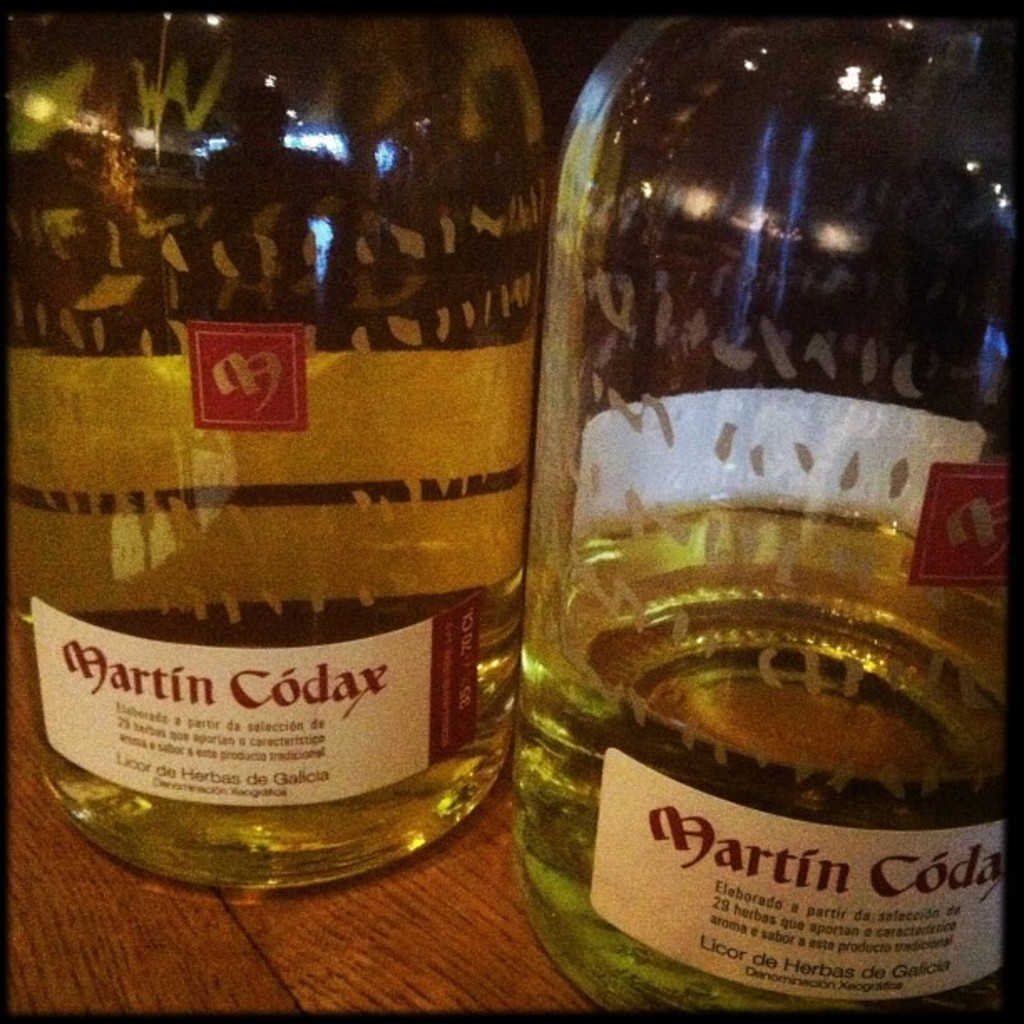Beer: (476, 6, 1022, 1022), (0, 1, 555, 905)
